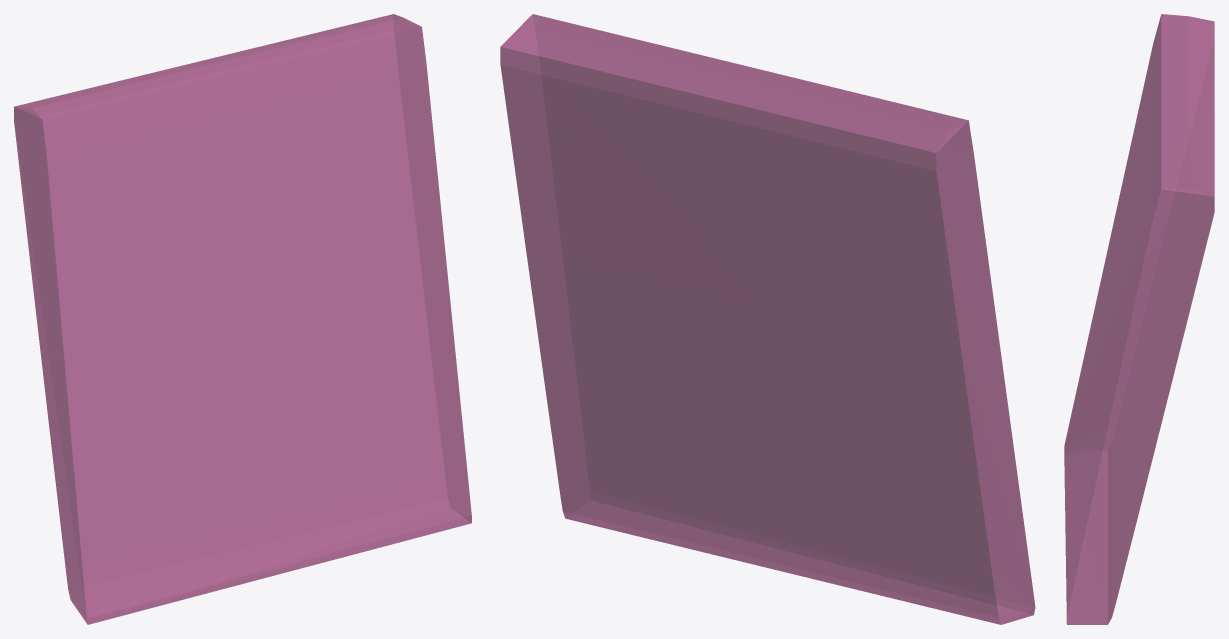
The picture shows the model from 3 angles, left to right: view 1: azimuth 30°, elevation 25°; view 2: azimuth 150°, elevation 25°; view 3: azimuth 270°, elevation 25°; orthographic projection. The views are drawn at different scales.
Visible parts, largest first — view 1: Shape_IndexedFaceSet.007_Shape_IndexedFaceSet.4680; view 2: Shape_IndexedFaceSet.007_Shape_IndexedFaceSet.4680; view 3: Shape_IndexedFaceSet.007_Shape_IndexedFaceSet.4680.
Boxes of the visible parts, <box> form: Shape_IndexedFaceSet.007_Shape_IndexedFaceSet.4680: <box>14,14,471,624</box>; Shape_IndexedFaceSet.007_Shape_IndexedFaceSet.4680: <box>500,14,1035,624</box>; Shape_IndexedFaceSet.007_Shape_IndexedFaceSet.4680: <box>1064,14,1214,624</box>.
Size of the model in its own units: 0.4524 by 0.5224 by 0.1613.
